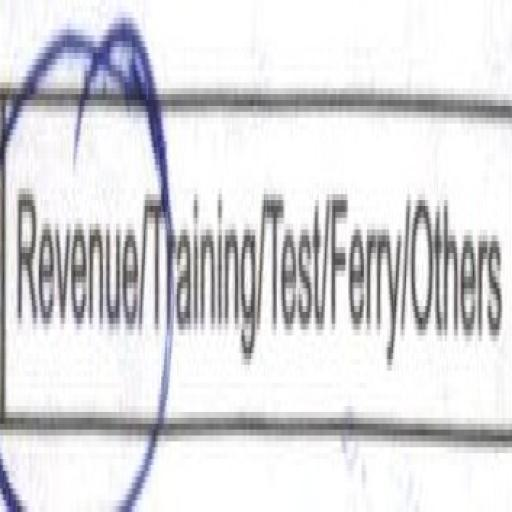check: (0, 23, 146, 506)
